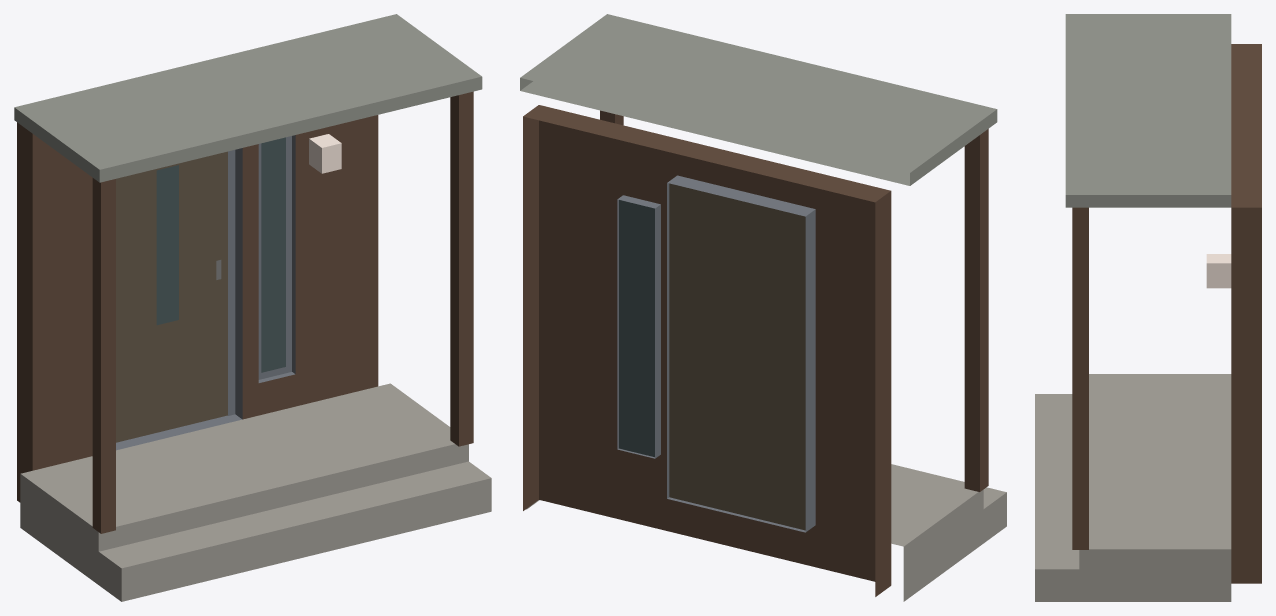
Rendered from entrance.fbx.
3 views of the same model, side by side, from view 1: azimuth 30°, elevation 25°; view 2: azimuth 150°, elevation 25°; view 3: azimuth 270°, elevation 25° (orthographic). The views are drawn at different scales.
Parts seen in each view (by area): view 1: a2000s3/800/entrance; view 2: a2000s3/800/entrance; view 3: a2000s3/800/entrance.
Part boxes in pixels (left/top/right/bottom): a2000s3/800/entrance: left=14, top=14, right=491, bottom=601; a2000s3/800/entrance: left=520, top=14, right=1006, bottom=601; a2000s3/800/entrance: left=1035, top=14, right=1261, bottom=601.
Bounding box in the file's own units: 3.1 × 3.27 × 1.64.
